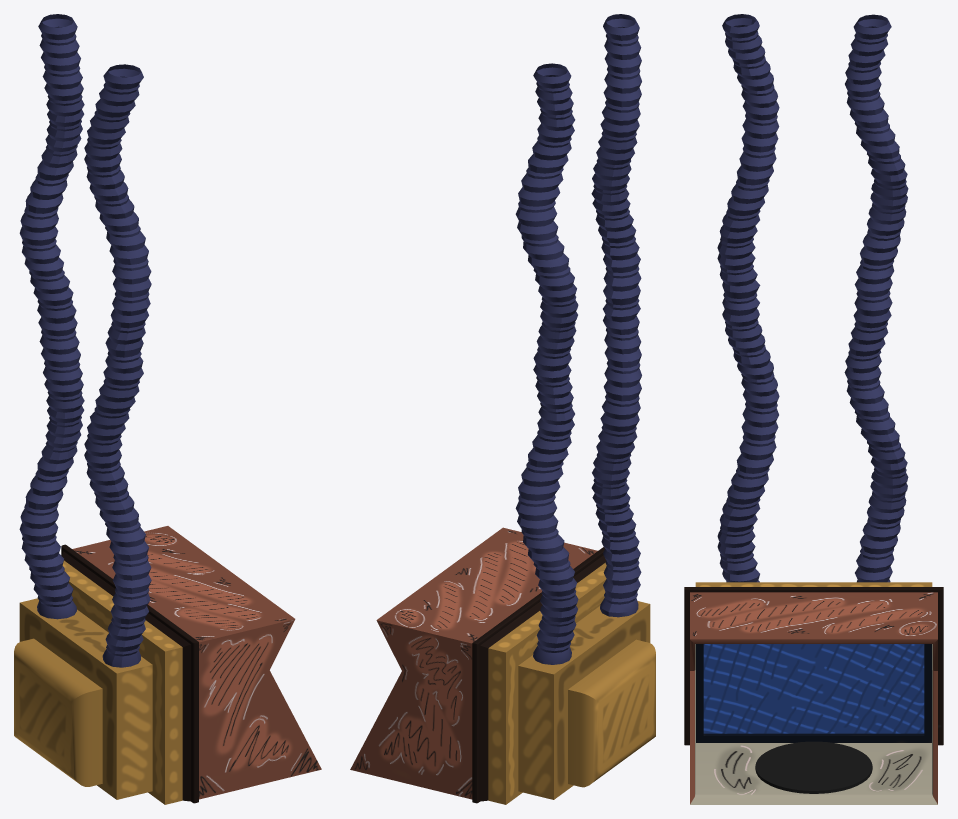
File: encantamentos.fbx
3 views of the same model, side by side, from view 1: azimuth 30°, elevation 25°; view 2: azimuth 150°, elevation 25°; view 3: azimuth 270°, elevation 25° (orthographic). The views are drawn at different scales.
Parts seen in each view (by area): view 1: MaquinaEncantamentos, Tubos; view 2: MaquinaEncantamentos, Tubos; view 3: MaquinaEncantamentos, Tubos, Prato.
Boxes of the visible parts, left/top/right/bottom form: MaquinaEncantamentos: left=14, top=526, right=321, bottom=804; Tubos: left=19, top=14, right=151, bottom=667; MaquinaEncantamentos: left=350, top=527, right=655, bottom=804; Tubos: left=515, top=14, right=641, bottom=664; MaquinaEncantamentos: left=684, top=582, right=943, bottom=804; Tubos: left=717, top=14, right=908, bottom=582; Prato: left=755, top=741, right=872, bottom=793.
Bounding box in the file's own units: 288 × 923 × 309.
